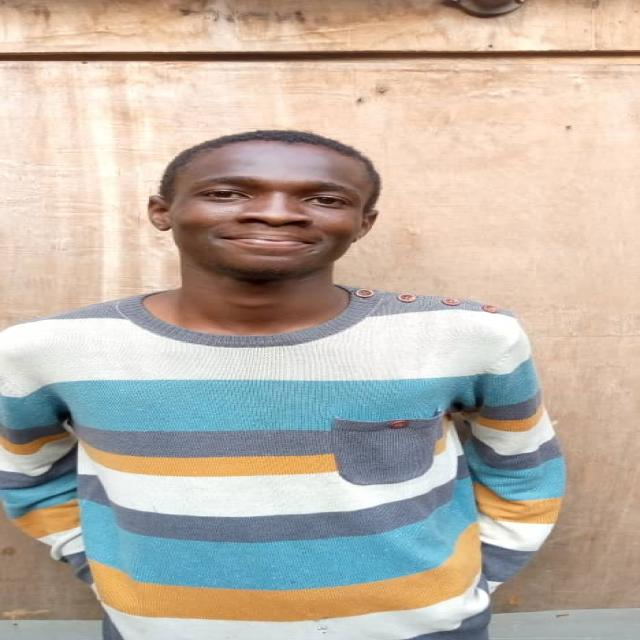happy: (148, 128, 392, 279)
